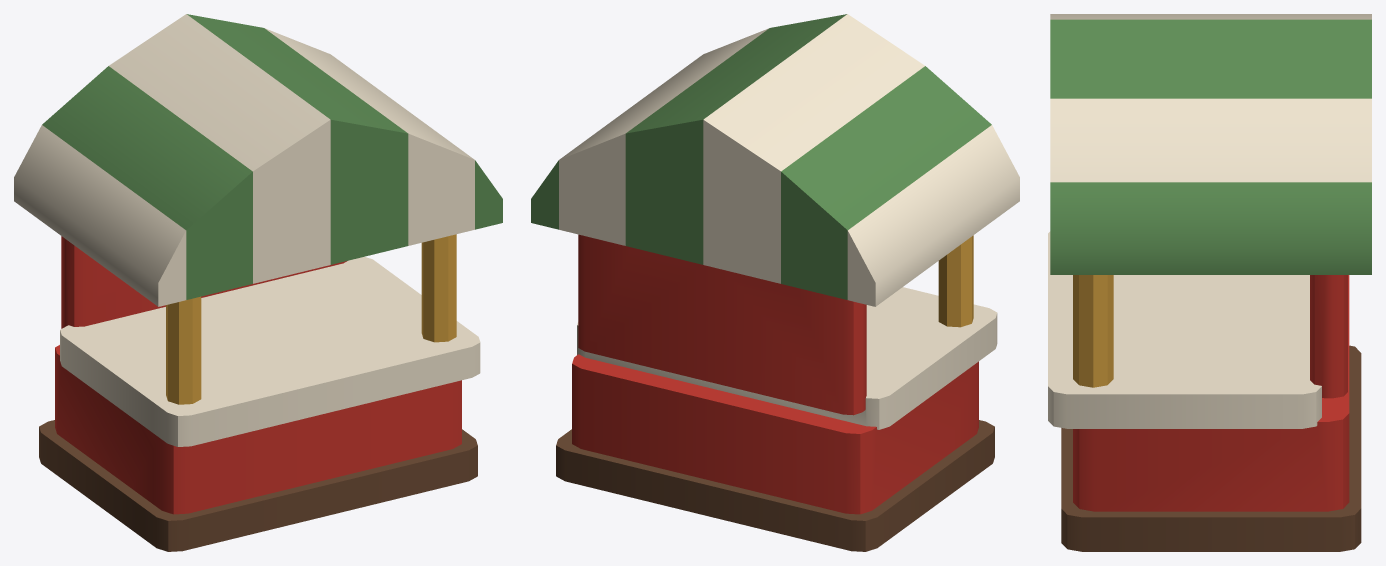
File: striped-fair-booth.glb
3 views of the same model, side by side, from view 1: azimuth 30°, elevation 25°; view 2: azimuth 150°, elevation 25°; view 3: azimuth 270°, elevation 25° (orthographic). The views are drawn at different scales.
Parts seen in each view (by area): view 1: striped-fair-booth; view 2: striped-fair-booth; view 3: striped-fair-booth.
Part boxes in pixels (x1,y1,x2,y2): striped-fair-booth: (14,14,502,551); striped-fair-booth: (531,14,1019,551); striped-fair-booth: (1048,14,1371,551).
Size of the model in its own units: 3.72 by 4.13 by 2.72.
2 materials, 2 textured.
